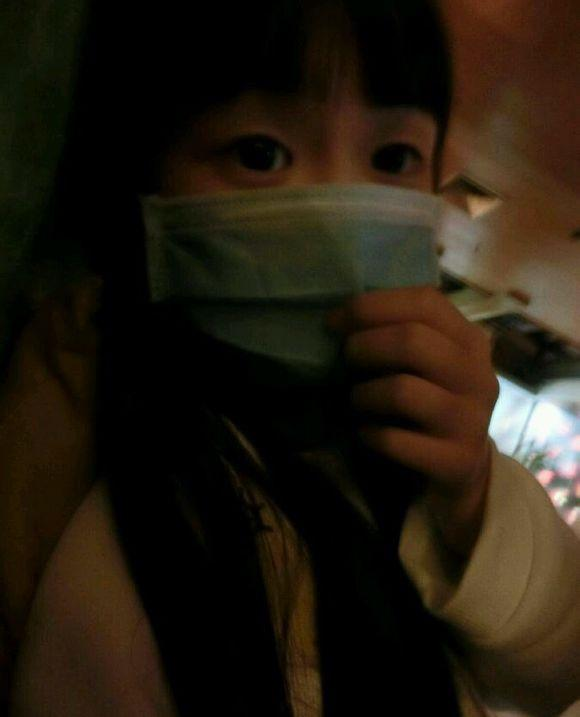OK: (186, 82, 445, 341)
